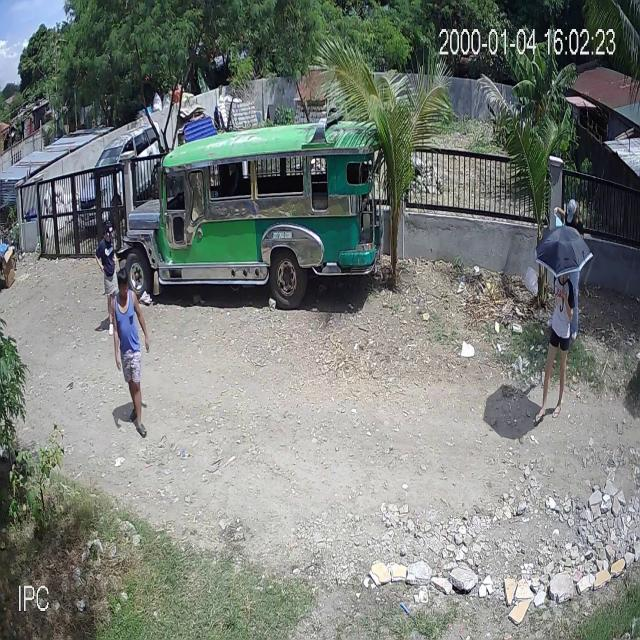standing: (96, 221, 123, 339)
walking: (106, 264, 150, 439), (532, 260, 575, 427), (558, 190, 584, 342)
